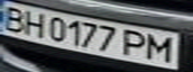0: (42, 15, 69, 43)
1: (63, 17, 81, 46)
7: (96, 22, 121, 54), (78, 20, 100, 51)
B: (0, 3, 30, 33)
H: (18, 8, 48, 38)
M: (142, 33, 181, 63)
P: (118, 27, 151, 58)
